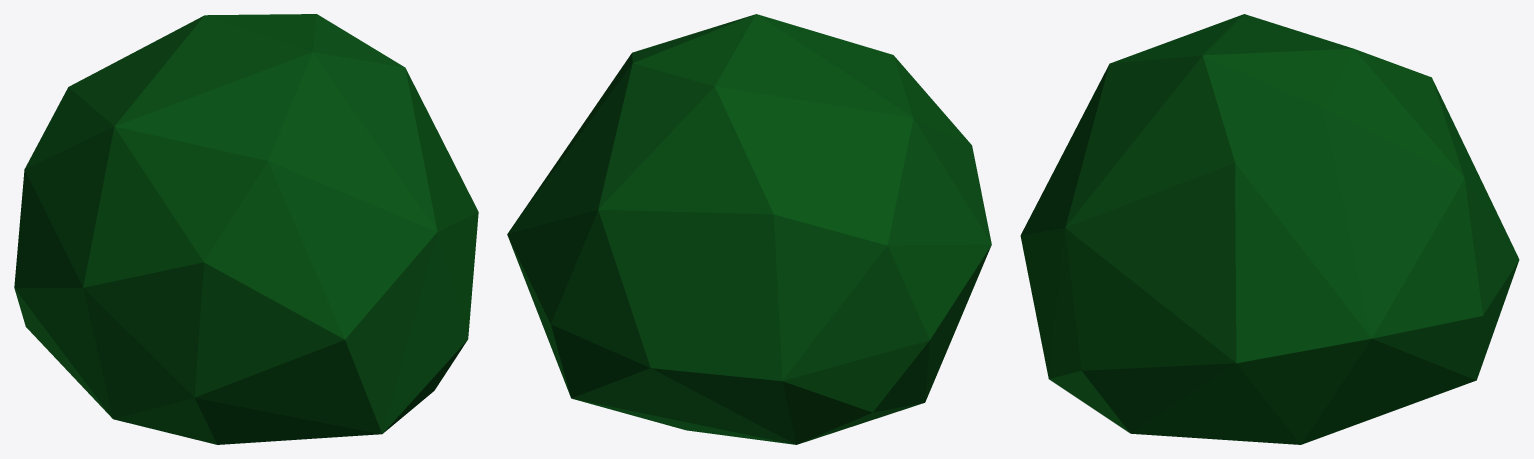
The model's file is Bush_M_flat.gltf.
3 renders of one model, left to right at view 1: azimuth 30°, elevation 25°; view 2: azimuth 150°, elevation 25°; view 3: azimuth 270°, elevation 25°, orthographic.
Parts seen in each view (by area): view 1: Bush_M_flat; view 2: Bush_M_flat; view 3: Bush_M_flat.
Part boxes in pixels (bbox=[...]): Bush_M_flat: bbox=[14, 14, 478, 444]; Bush_M_flat: bbox=[507, 14, 991, 444]; Bush_M_flat: bbox=[1020, 14, 1519, 444].
Bounding box in the file's own units: 2.92 × 2.34 × 2.99.
Materials: 1 (1 with a texture image).
